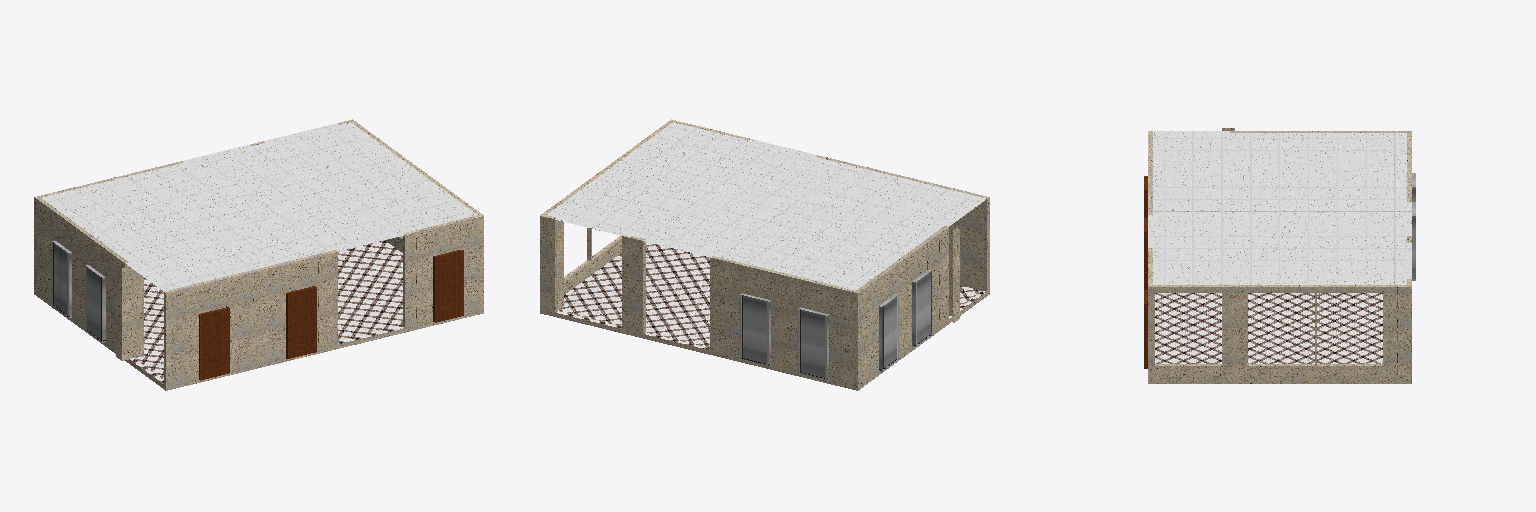
3 renders of one model, left to right at view 1: azimuth 30°, elevation 25°; view 2: azimuth 150°, elevation 25°; view 3: azimuth 270°, elevation 25°, orthographic.
Visible parts, largest first — view 1: Plane.363, Plane.364, door_elevator.112, door.048, column_6/8.014, door_elevator.111; view 2: Plane.363, Plane.364, door.047, door.048, column_6/8.014, column_1/4.016; view 3: Plane.363, Plane.364.
Boxes of the visible parts, x1=… form: Plane.363: x1=42, y1=122, x2=476, y2=291; Plane.364: x1=34, y1=119, x2=483, y2=390; door_elevator.112: x1=199, y1=286, x2=316, y2=380; door.048: x1=52, y1=241, x2=105, y2=342; column_6/8.014: x1=116, y1=264, x2=143, y2=360; door_elevator.111: x1=433, y1=250, x2=463, y2=322; Plane.363: x1=547, y1=122, x2=985, y2=290; Plane.364: x1=540, y1=119, x2=989, y2=390; door.047: x1=740, y1=293, x2=828, y2=380; door.048: x1=879, y1=270, x2=931, y2=371; column_6/8.014: x1=949, y1=224, x2=959, y2=322; column_1/4.016: x1=557, y1=220, x2=563, y2=310; Plane.363: x1=1148, y1=131, x2=1411, y2=284; Plane.364: x1=1148, y1=131, x2=1411, y2=383.
Size of the model in its own units: 3.89 by 1.11 by 2.81.
Materials: 6 (5 with a texture image).